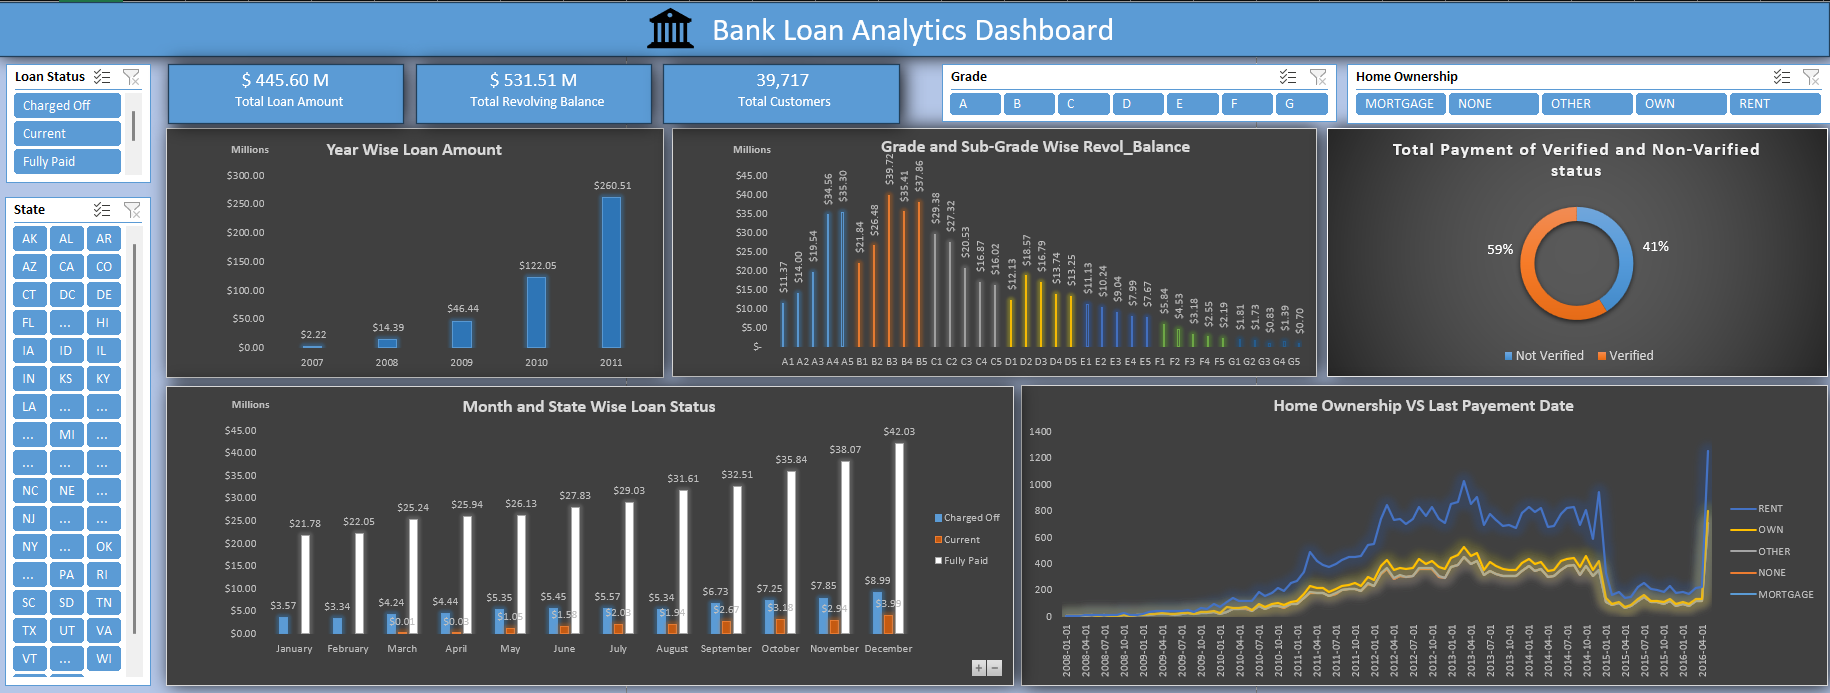

Layout of this report page (visuals, bound fields, positions):
{"tool":"tableau","page":{"name":"Bank AnalysisDashboard","canvas":[1000,1000],"units":"permille","ordinal":0},"visuals":[{"type":"filter","title":"KPI-1","param":"[federated.0pndipg0a48y3x13emsfd06uxpvv].[none:loan_status:nk]","box":[467.6,7,97.2,123.1]},{"type":"image","param":"Image/bank1.jpg","box":[9.1,8.1,104.4,170.7]},{"type":"filter","title":"KPI-1","param":"[federated.0pndipg0a48y3x13emsfd06uxpvv].[yr:issue_d:ok]","box":[711.3,9.3,96,108]},{"type":"filter","title":"KPI-1","param":"[federated.0pndipg0a48y3x13emsfd06uxpvv].[none:purpose:nk]","box":[594.2,10.5,96.6,63.9]},{"type":"text","box":[115.9,11.6,347.6,97.6]},{"type":"worksheet","title":"KPI-1","mark":"Bar","rows":["loan_amnt"],"cols":["issue_d"],"box":[169,141.7,349.4,380.9]},{"type":"worksheet","title":"KPI-2","mark":"Automatic","rows":["revol_bal"],"cols":["grade","sub_grade"],"box":[529.3,144,463.5,376.3]},{"type":"dashboard-object","box":[178.6,146.3,56.7,37.2]},{"type":"dashboard-object","box":[529.9,151,70.6,30.2]},{"type":"worksheet","title":"Balance1","mark":"Automatic","box":[3,175.4,136.4,477.4]},{"type":"legend","title":"KPI-1","param":"[federated.0pndipg0a48y3x13emsfd06uxpvv].[none:loan_status:nk]","box":[267.9,194,248.6,34.8]},{"type":"parameter","param":"[Parameters].[Parameter 1]","box":[5.4,479.7,96.6,55.8]},{"type":"worksheet","title":"KPI-4","mark":"Automatic","rows":["issue_d","loan_status"],"cols":["addr_state"],"box":[4.2,541.2,373.6,455.3]},{"type":"worksheet","title":"KPI-3","mark":"Pie","rows":["Calculation_573646043721523200","Calculation_573646043721523200"],"box":[383.8,541.2,289.7,447.2]},{"type":"dashboard-object","box":[9.7,547,25.9,32.5]},{"type":"worksheet","title":"KPI-5","mark":"Automatic","box":[684.4,547,314.4,453]},{"type":"legend","title":"KPI-3","param":"[federated.0pndipg0a48y3x13emsfd06uxpvv].[none:verification_status:nk]","box":[395.3,634.1,86.3,76.7]}]}

Visuals, with their boxes on the dashboard's canvas, which has no fixed pixel size, in thousandths of its width and height (x1, y1, x2, y2). These are canvas units, not pixel positions in the 1830x693 screenshot, which may show the page scaled, cropped or inside an application window:
"KPI-1" filter: <bbox>468, 7, 565, 130</bbox>
image: <bbox>9, 8, 114, 179</bbox>
"KPI-1" filter: <bbox>711, 9, 807, 117</bbox>
"KPI-1" filter: <bbox>594, 10, 691, 74</bbox>
text: <bbox>116, 12, 464, 109</bbox>
"KPI-1" worksheet (Bar marks): <bbox>169, 142, 518, 523</bbox>
"KPI-2" worksheet: <bbox>529, 144, 993, 520</bbox>
dashboard-object: <bbox>179, 146, 235, 184</bbox>
dashboard-object: <bbox>530, 151, 600, 181</bbox>
"Balance1" worksheet: <bbox>3, 175, 139, 653</bbox>
"KPI-1" legend: <bbox>268, 194, 516, 229</bbox>
parameter: <bbox>5, 480, 102, 536</bbox>
"KPI-4" worksheet: <bbox>4, 541, 378, 996</bbox>
"KPI-3" worksheet (Pie marks): <bbox>384, 541, 674, 988</bbox>
dashboard-object: <bbox>10, 547, 36, 580</bbox>
"KPI-5" worksheet: <bbox>684, 547, 999, 1000</bbox>
"KPI-3" legend: <bbox>395, 634, 482, 711</bbox>
